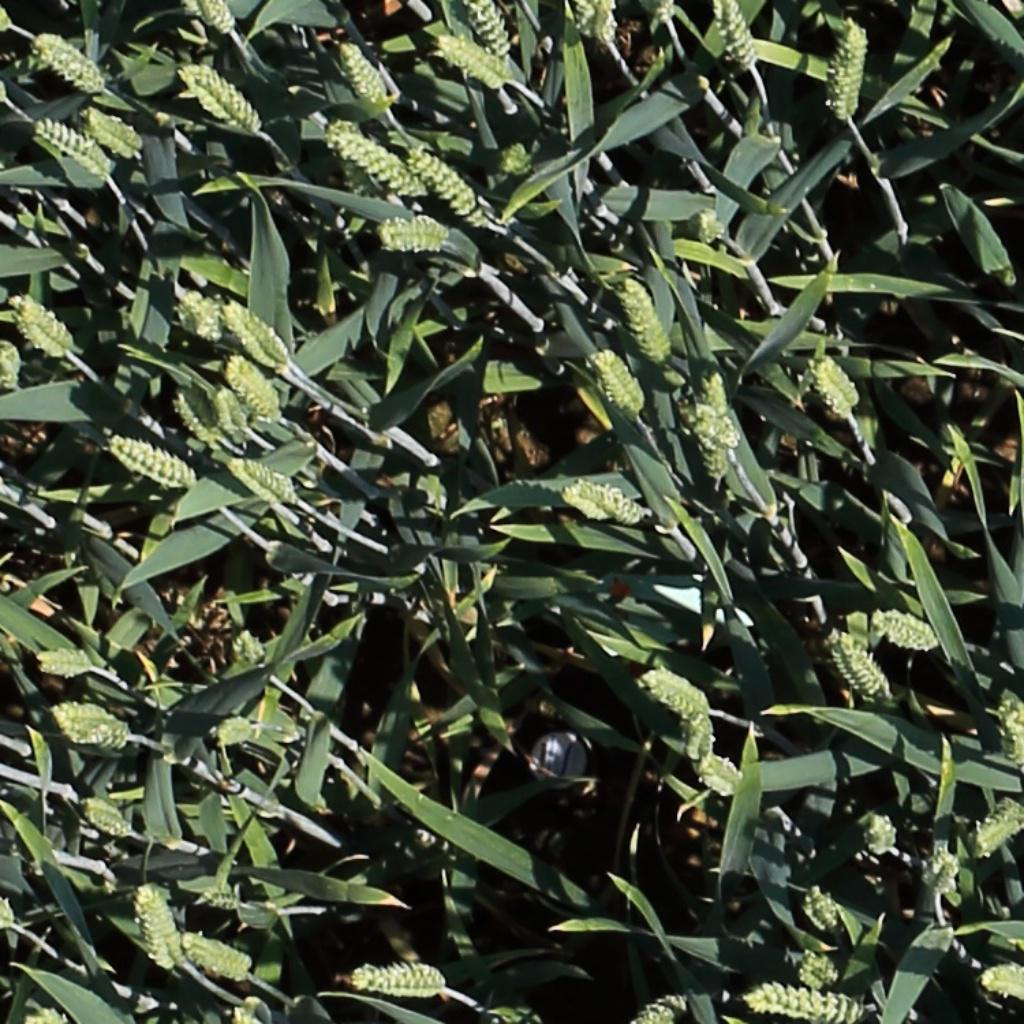0-0: (408, 143, 494, 226), (331, 125, 427, 193), (738, 977, 872, 1023), (182, 61, 263, 133), (45, 691, 138, 753), (5, 290, 80, 366), (817, 16, 868, 126), (337, 952, 449, 1001), (670, 391, 759, 451), (621, 270, 675, 368), (635, 661, 721, 721), (221, 297, 290, 370), (107, 432, 196, 488), (427, 30, 514, 87), (828, 628, 891, 705), (135, 877, 185, 974), (334, 34, 393, 116), (31, 116, 111, 176), (223, 349, 285, 425), (698, 370, 738, 483), (31, 32, 105, 91), (592, 344, 649, 419), (369, 215, 456, 262), (965, 789, 1022, 857), (865, 599, 940, 650), (807, 349, 858, 419), (207, 703, 265, 763), (72, 784, 131, 842), (689, 749, 752, 803), (167, 385, 219, 450), (718, 0, 763, 75), (920, 846, 975, 905), (229, 456, 299, 502), (29, 641, 107, 682), (180, 935, 253, 978), (468, 0, 517, 64), (491, 132, 540, 194), (971, 947, 1024, 1004), (174, 285, 225, 344), (81, 103, 141, 152), (577, 481, 647, 522), (687, 203, 739, 257), (804, 883, 849, 942), (629, 980, 690, 1022), (419, 393, 464, 449), (211, 380, 252, 439), (996, 689, 1024, 772), (197, 870, 247, 916), (688, 710, 724, 771), (593, 0, 629, 56), (865, 809, 901, 861), (230, 625, 267, 675), (195, 0, 238, 42), (562, 487, 615, 520), (800, 951, 841, 988), (0, 885, 27, 938), (574, 1, 606, 45), (0, 330, 21, 397), (652, 0, 681, 31)
